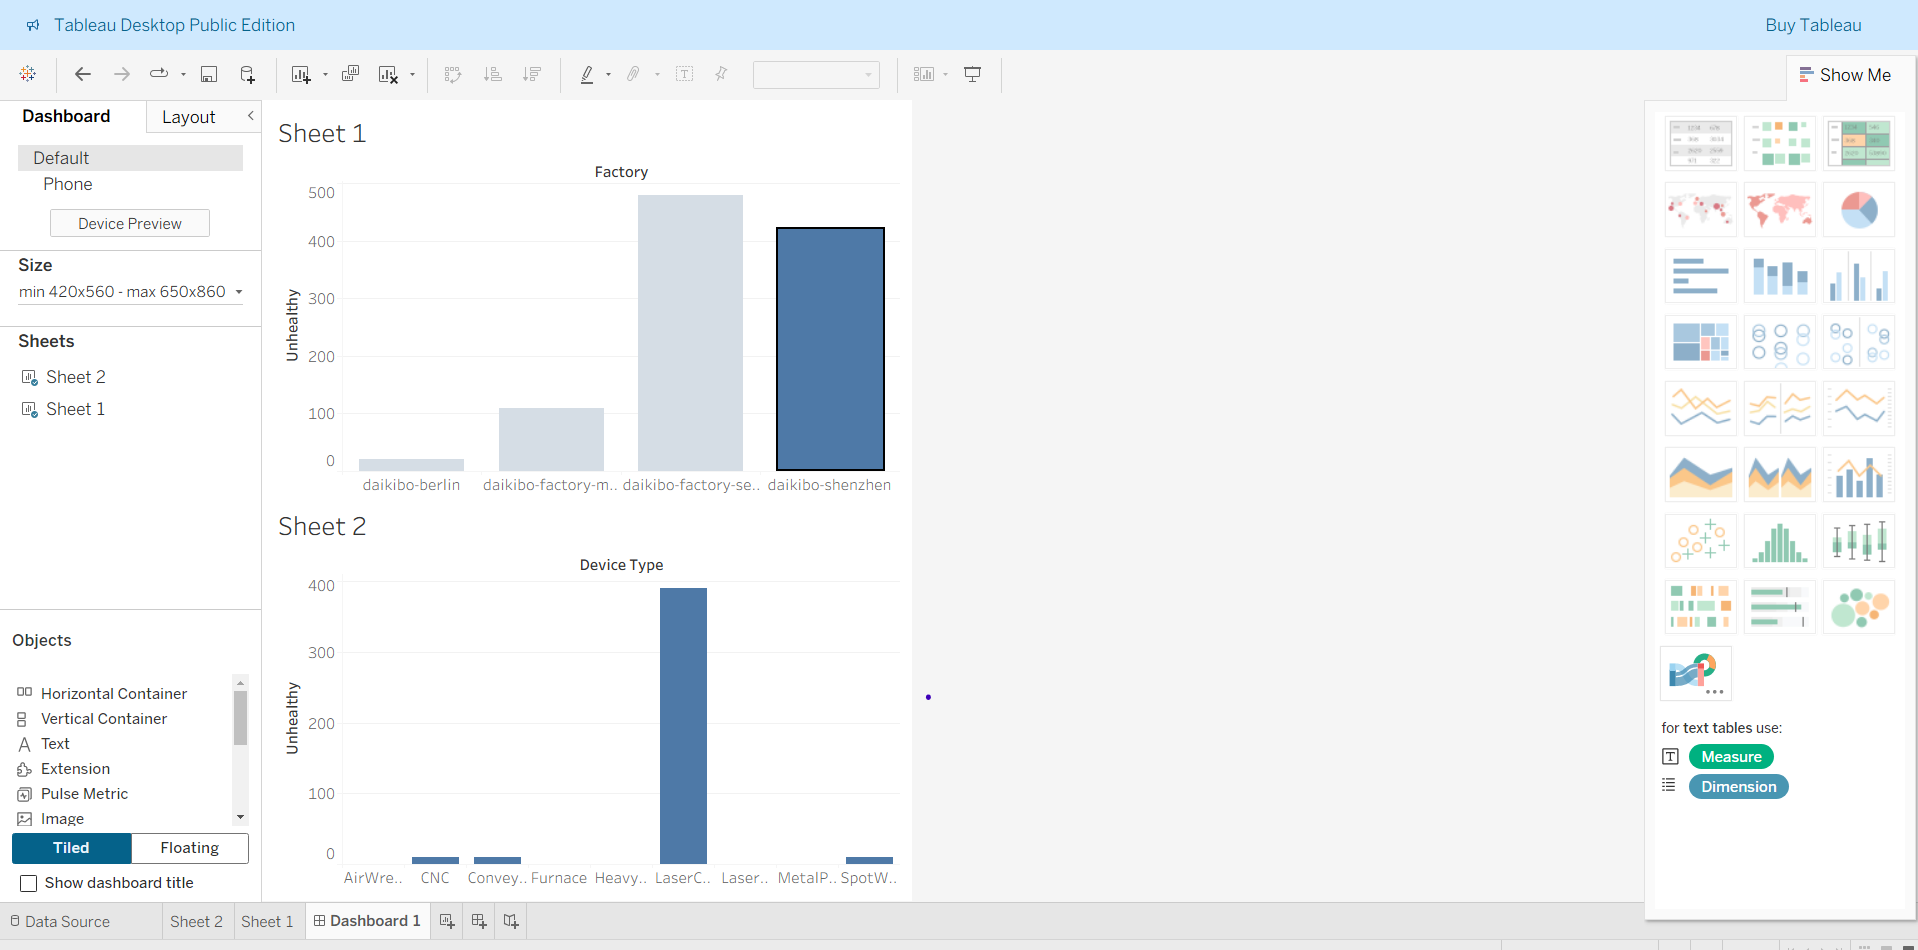

The page's visual inventory and layout, read from the dashboard file:
{"tool":"tableau","page":{"name":"Dashboard 1","canvas":[650,860],"ordinal":0},"visuals":[{"type":"worksheet","title":"Sheet 1","mark":"Automatic","rows":["Calculation_1020628290885316608"],"cols":["factory"],"box":[8,8.6,634,421.4]},{"type":"worksheet","title":"Sheet 2","mark":"Automatic","rows":["Calculation_1020628290885316608"],"cols":["deviceType"],"box":[8,430,634,421.4]}]}

Visuals, with their boxes on the page's 650x860 design canvas (x1, y1, x2, y2). These are canvas units, not pixel positions in the 1918x950 screenshot, which may show the page scaled, cropped or inside an application window:
"Sheet 1" worksheet: rect(8, 9, 642, 430)
"Sheet 2" worksheet: rect(8, 430, 642, 851)
